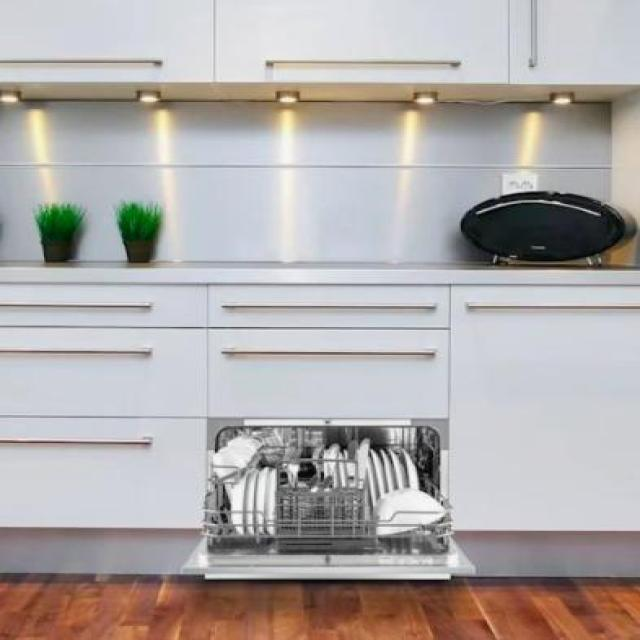dishwasher: (173, 413, 485, 590)
